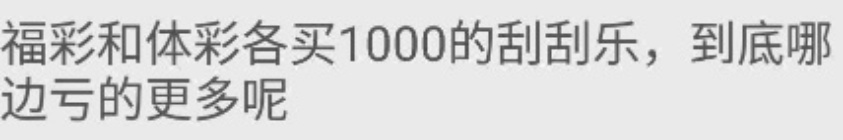TextView: (1, 1, 842, 139)
